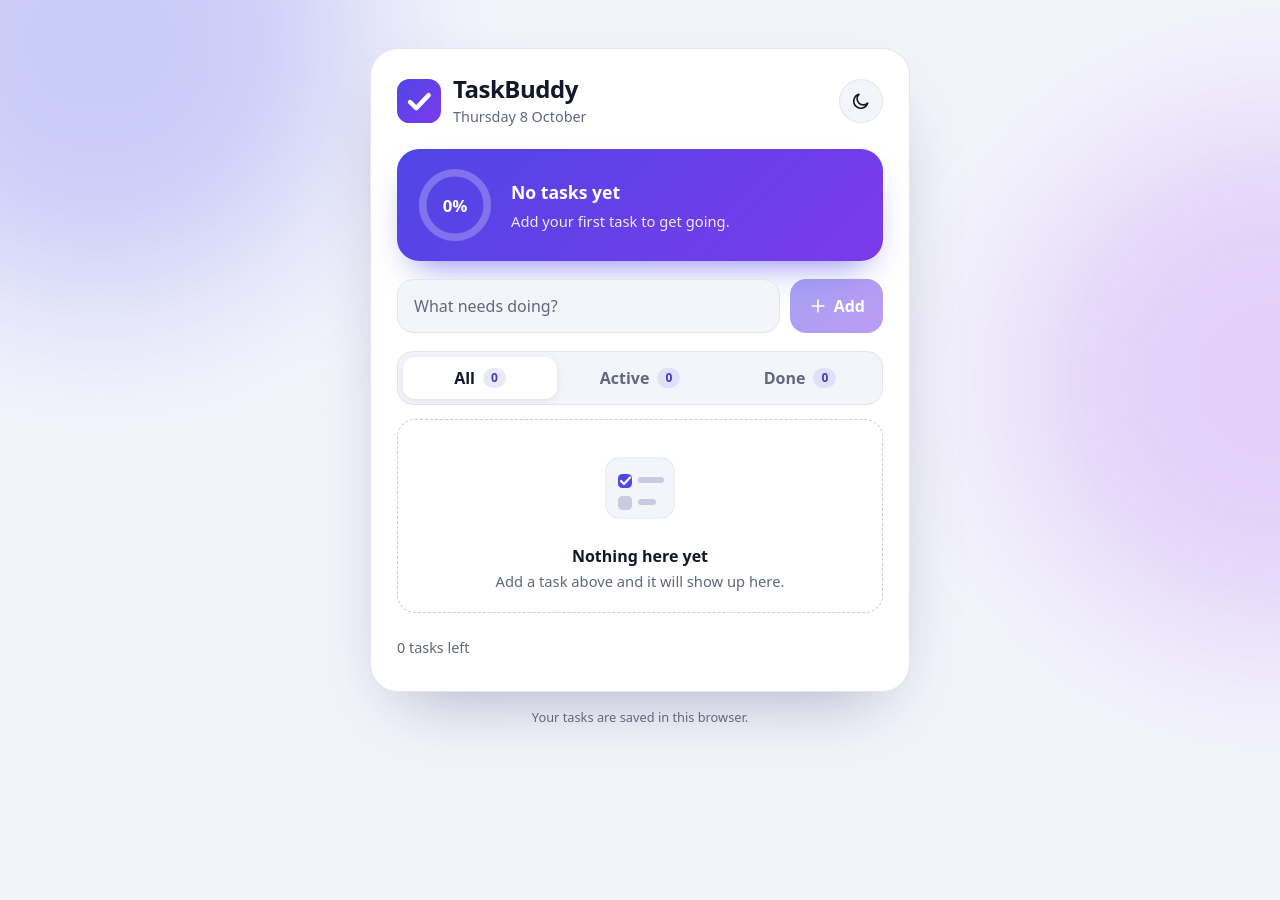
Test: TaskBuddy › completing a task updates the progress and the counts
This screenshot has width=1280, height=900.
Type "Write report" into the field named "New task" at (588, 306), box [397,279,780,333]
Then press Enter
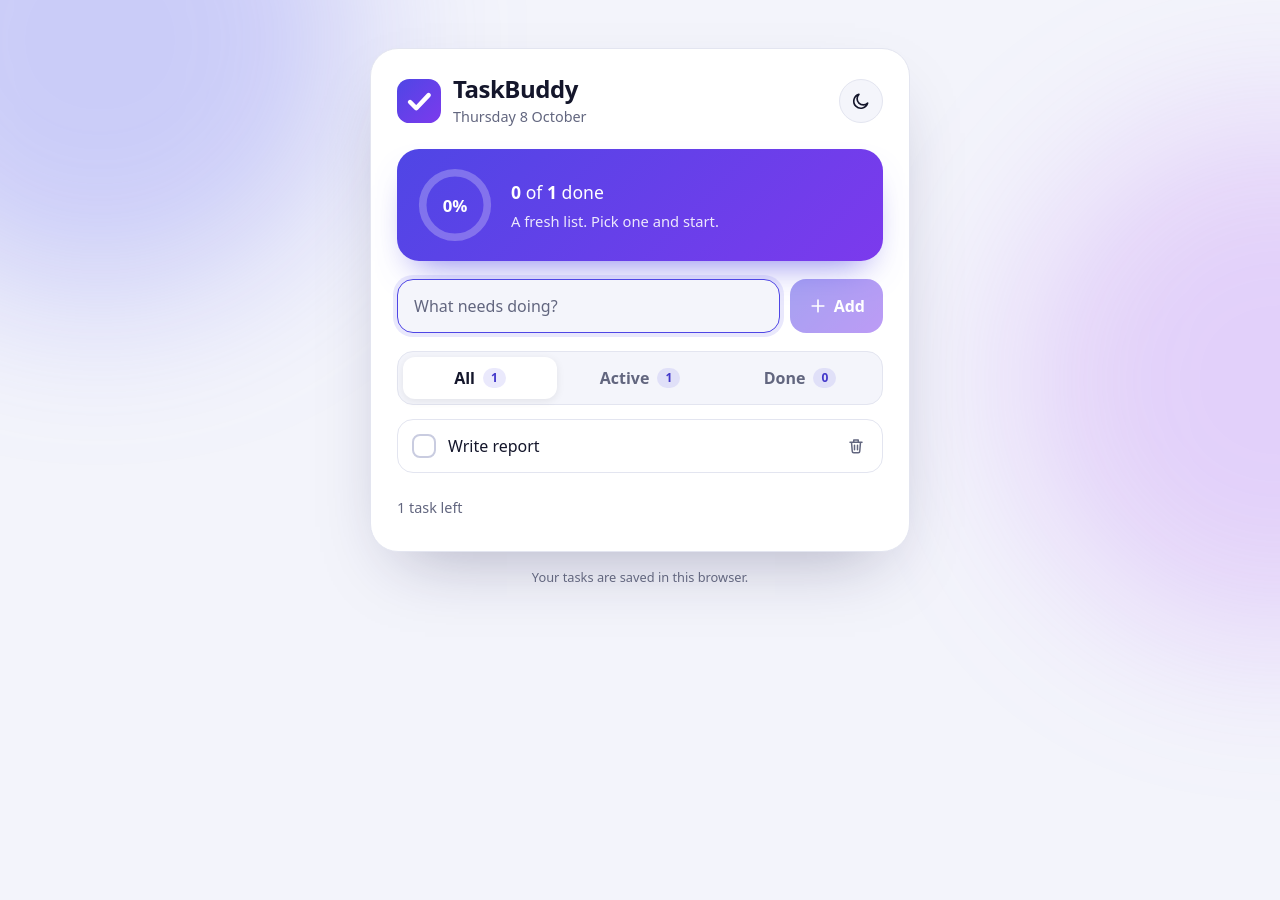
Type "Book tickets" into the field named "New task" at (588, 306), box [397,279,780,333]
Then press Enter
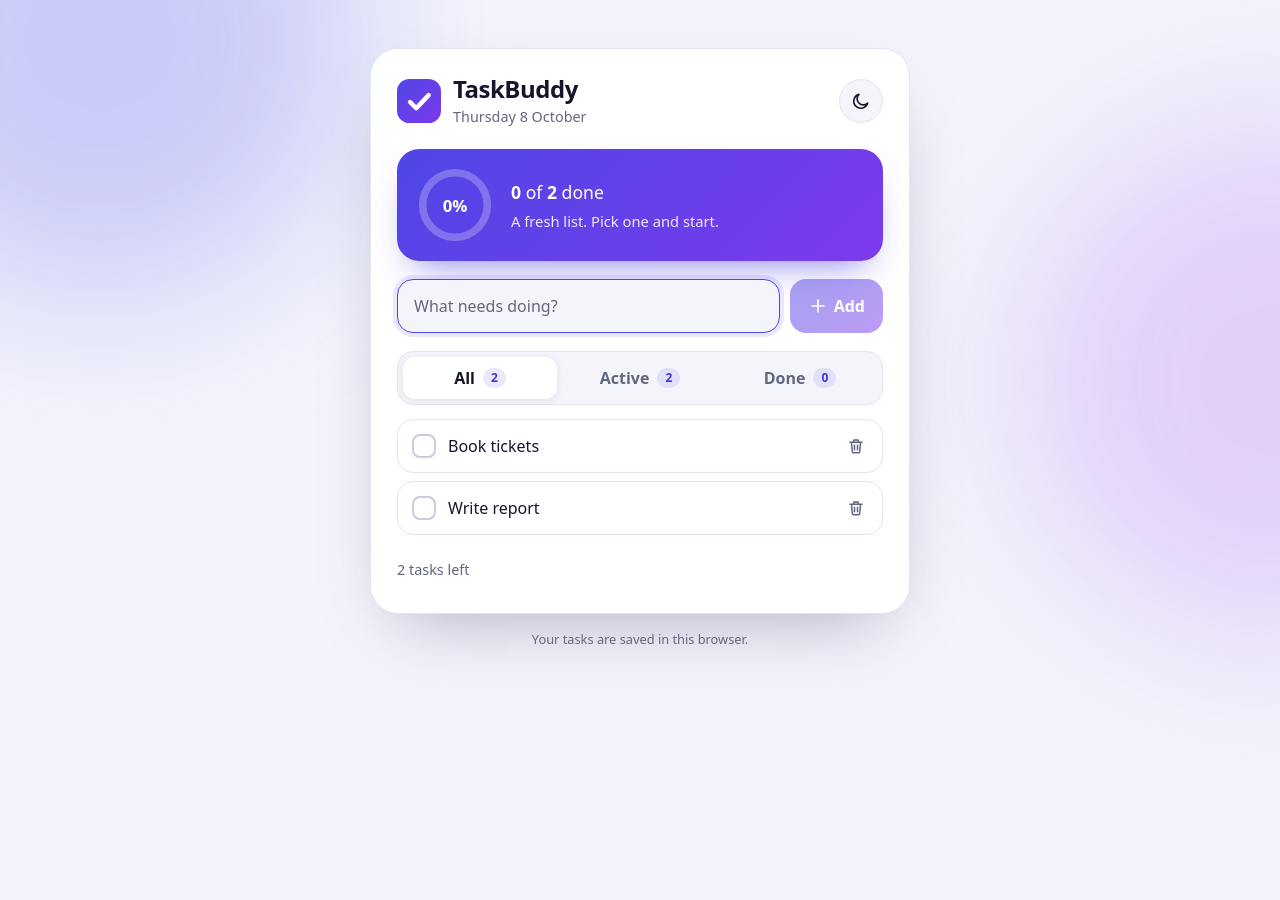
Click the checkbox labelled "Write report" at (476, 508), box [412,496,540,520]
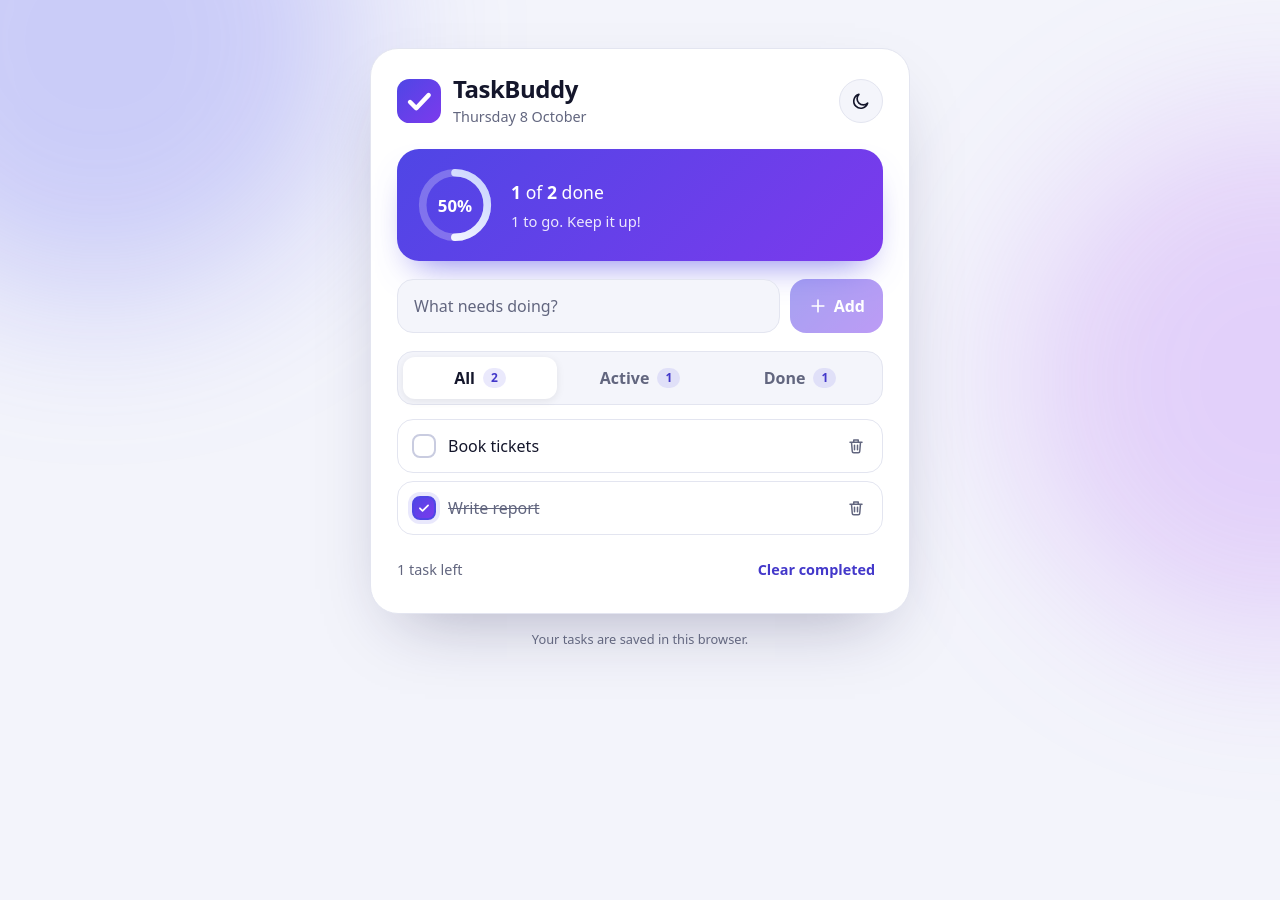
Expected: the checkbox labelled "Write report" is checked, [412,496,540,520]
Expected: the text "1 task left" is shown, [397,559,462,580]
Expected: the text "1 to go. Keep it up!" is shown, [511,210,641,232]
